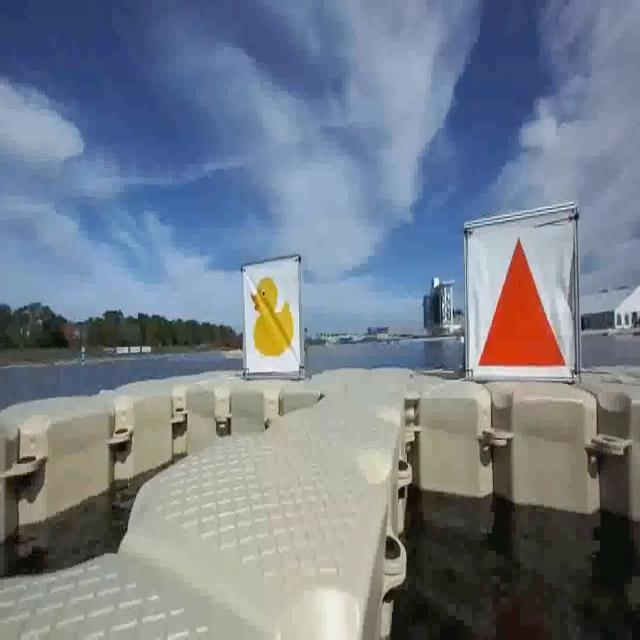red-dot: (467, 234, 568, 376)
yellow-duck: (250, 274, 294, 358)
